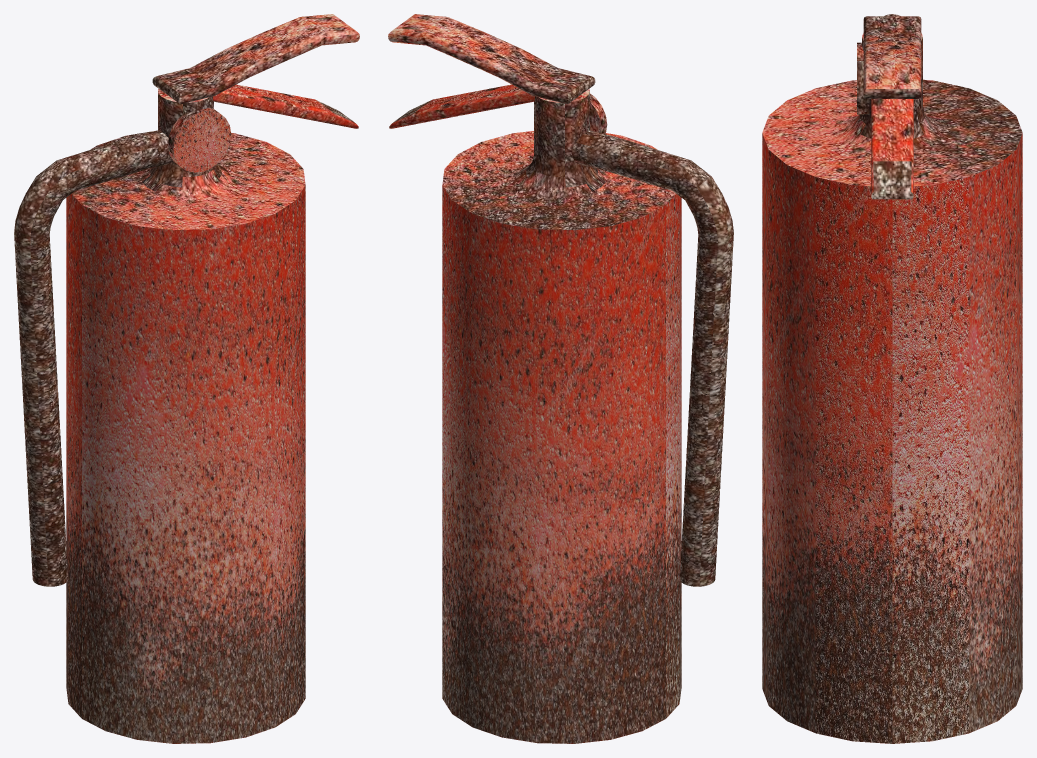
Rendered from fireextinguisher.fbx.
3 renders of one model, left to right at view 1: azimuth 30°, elevation 25°; view 2: azimuth 150°, elevation 25°; view 3: azimuth 270°, elevation 25°, orthographic. The views are drawn at different scales.
Parts seen in each view (by area): view 1: fireextinguisherpiece2; view 2: fireextinguisherpiece2; view 3: fireextinguisherpiece2.
Part boxes in pixels (x1=…): fireextinguisherpiece2: x1=14, y1=14, x2=359, y2=743; fireextinguisherpiece2: x1=388, y1=14, x2=733, y2=743; fireextinguisherpiece2: x1=762, y1=14, x2=1022, y2=743.
Size of the model in its own units: 110 by 202 by 69.02.
1 material, 1 textured.
